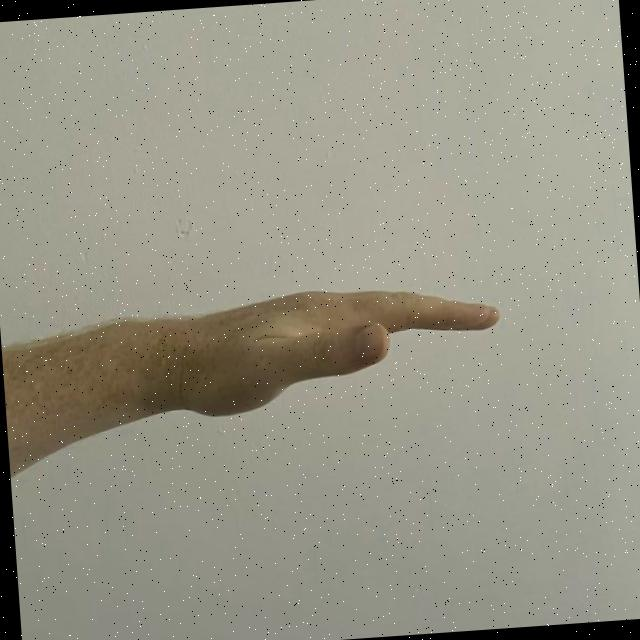papper: (107, 269, 510, 432)
